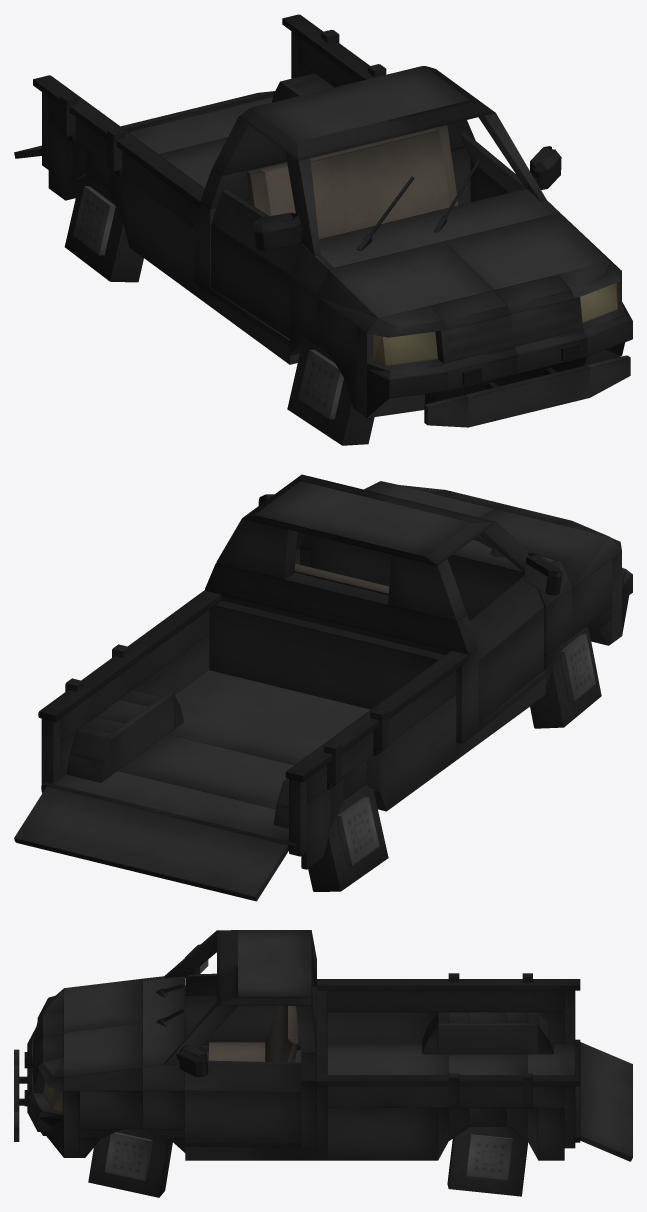
File: truck_wreckage1.obj
3 renders of one model, top to bottom at view 1: azimuth 30°, elevation 25°; view 2: azimuth 150°, elevation 25°; view 3: azimuth 270°, elevation 25°, orthographic. The views are drawn at different scales.
Visible parts, largest first — view 1: bodyModel82, bodyModel142, bodyModel63, bodyModel71, bodyModel80, bodyModel122, bodyModel58, bodyModel3, bodyModel15, bodyModel133, bodyModel14, bodyModel131 (+48 smaller); view 2: bodyModel13, bodyModel8, bodyModel82, bodyModel48, bodyModel128, bodyModel49, bodyModel80, bodyModel14, bodyModel58, bodyModel63, bodyModel122, bodyModel100 (+29 smaller); view 3: bodyModel82, bodyModel126, bodyModel45, bodyModel51, bodyModel13, bodyModel71, bodyModel9, bodyModel63, bodyModel48, bodyModel58, bodyModel127, bodyModel61 (+45 smaller).
Boxes of the visible parts, box(x1,y1,x2,y2) form: bodyModel82: box(239, 66, 495, 160); bodyModel142: box(258, 128, 449, 239); bodyModel63: box(316, 241, 494, 332); bodyModel71: box(444, 213, 621, 289); bodyModel80: box(319, 189, 553, 267); bodyModel122: box(211, 224, 289, 338); bodyModel58: box(129, 180, 199, 298); bodyModel3: box(465, 365, 589, 427); bodyModel15: box(33, 75, 204, 207); bodyModel133: box(64, 174, 143, 282); bodyModel14: box(128, 97, 272, 153); bodyModel131: box(287, 342, 374, 445); bodyModel13: box(14, 786, 288, 901); bodyModel8: box(209, 600, 468, 743); bodyModel82: box(242, 474, 496, 565); bodyModel48: box(167, 670, 370, 765); bodyModel128: box(205, 563, 478, 654); bodyModel49: box(118, 734, 294, 809); bodyModel80: box(310, 535, 554, 620); bodyModel14: box(53, 771, 288, 841); bodyModel58: box(386, 694, 456, 810); bodyModel63: box(473, 509, 621, 587); bodyModel122: box(478, 608, 544, 724); bodyModel100: box(38, 590, 221, 721); bodyModel82: box(217, 930, 311, 1005); bodyModel126: box(185, 1090, 301, 1144); bodyModel45: box(327, 1108, 438, 1160); bodyModel51: box(327, 990, 564, 1012); bodyModel13: box(579, 1042, 632, 1161); bodyModel71: box(64, 1023, 142, 1091); bodyModel9: box(327, 1086, 564, 1107); bodyModel63: box(64, 978, 142, 1032); bodyModel48: box(327, 1044, 448, 1074); bodyModel58: box(327, 1012, 438, 1044); bodyModel127: box(185, 1060, 301, 1093); bodyModel61: box(438, 1023, 538, 1054).
Size of the model in its own units: 3.28 by 2.45 by 7.34.
1 material, 1 textured.
